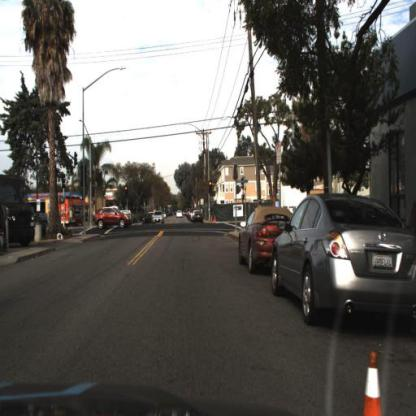car: (270, 184, 416, 341), (238, 202, 295, 276), (92, 205, 133, 230), (152, 210, 166, 226)
trafficLight-Green: (209, 181, 214, 197)
trafficLight-Red: (124, 185, 129, 202)
truck: (58, 198, 90, 229)
